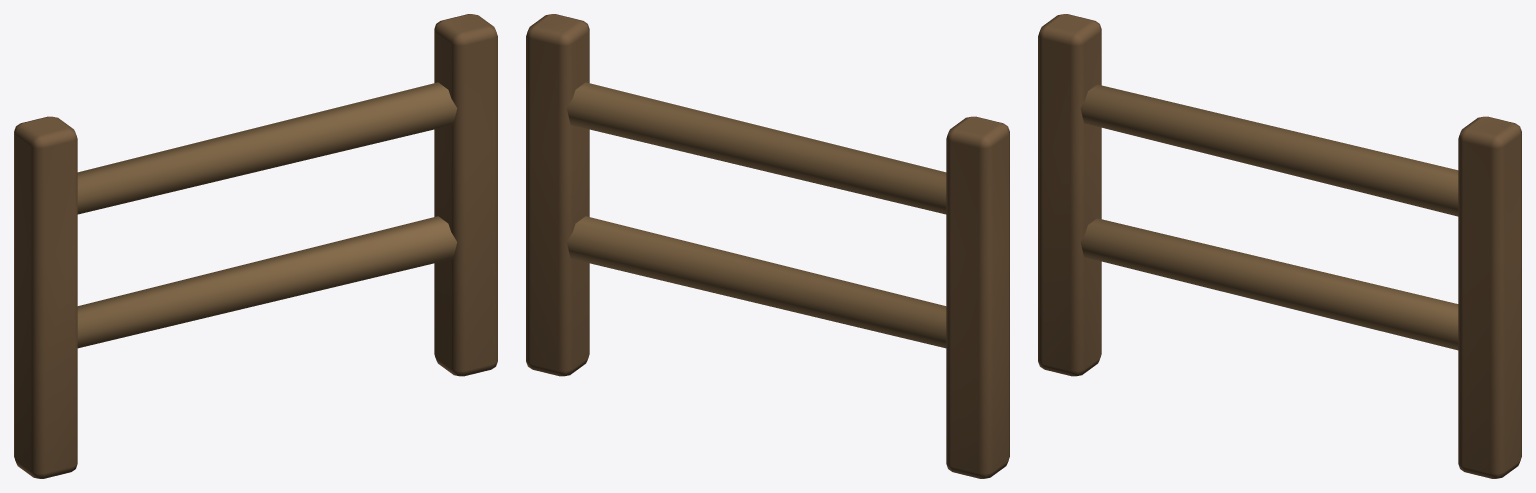
The model's file is furn_od_fence_rail.glb.
3 renders of one model, left to right at view 1: azimuth 30°, elevation 25°; view 2: azimuth 150°, elevation 25°; view 3: azimuth 330°, elevation 25°, orthographic.
Parts seen in each view (by area): view 1: furn_od_fence_rail_main; view 2: furn_od_fence_rail_main; view 3: furn_od_fence_rail_main.
Boxes of the visible parts, left/top/right/bottom form: furn_od_fence_rail_main: left=14, top=14, right=497, bottom=478; furn_od_fence_rail_main: left=526, top=14, right=1009, bottom=478; furn_od_fence_rail_main: left=1038, top=14, right=1521, bottom=478.
Size of the model in its own units: 1.02 by 0.72 by 0.1.
